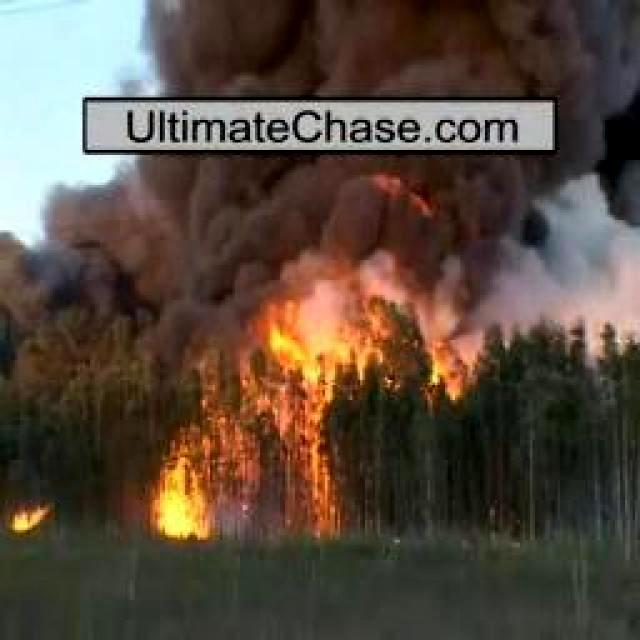helmet: (267, 314, 348, 543), (147, 435, 217, 546), (410, 293, 476, 388), (7, 500, 52, 535)
no_helmet: (0, 152, 640, 316), (124, 0, 639, 107)
